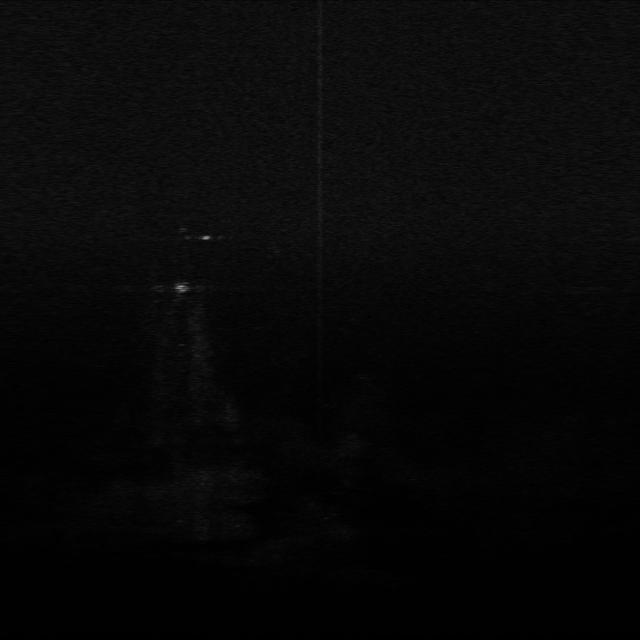rov: (170, 278, 192, 298)
